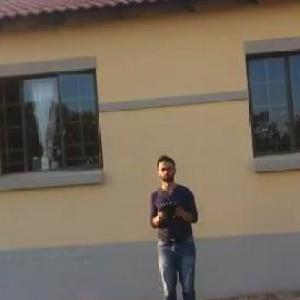follow: (146, 149, 204, 299)
